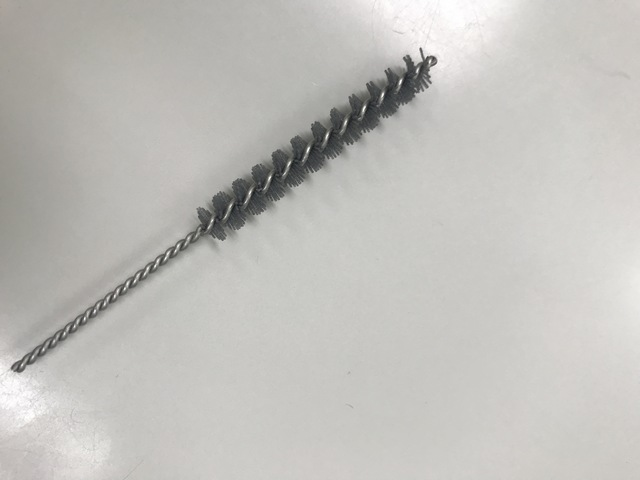Twist Brush-A: (7, 46, 438, 376)
